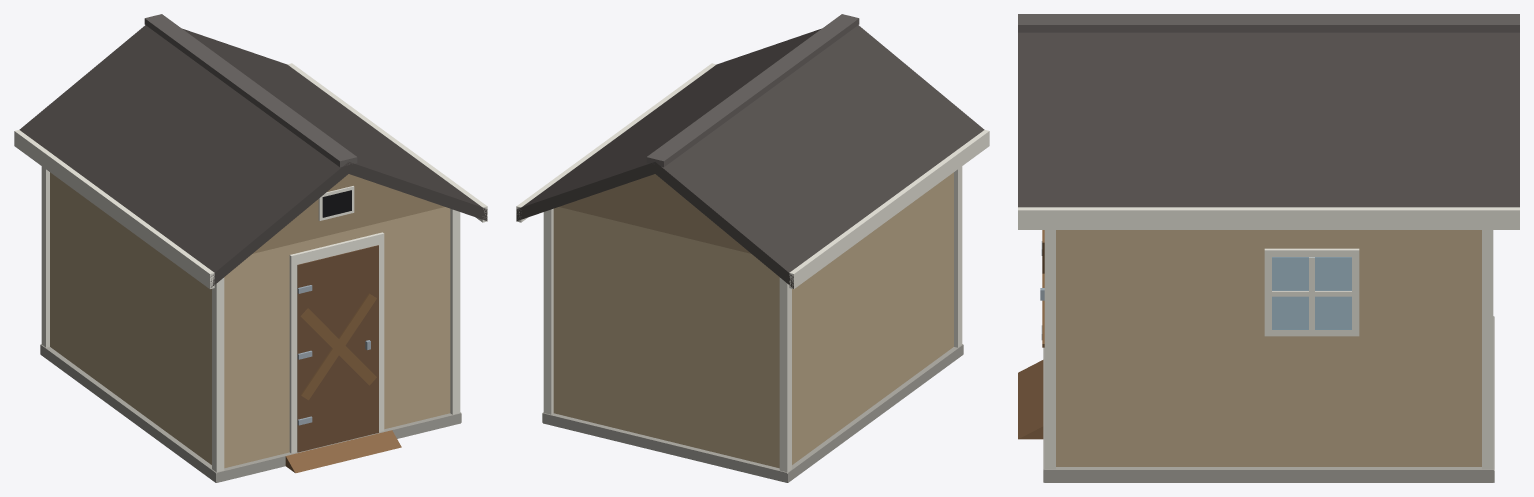
File: shed.obj
3 views of the same model, side by side, from view 1: azimuth 30°, elevation 25°; view 2: azimuth 150°, elevation 25°; view 3: azimuth 270°, elevation 25° (orthographic). The views are drawn at different scales.
Size of the model in its own units: 2.87 by 2.97 by 3.5.
